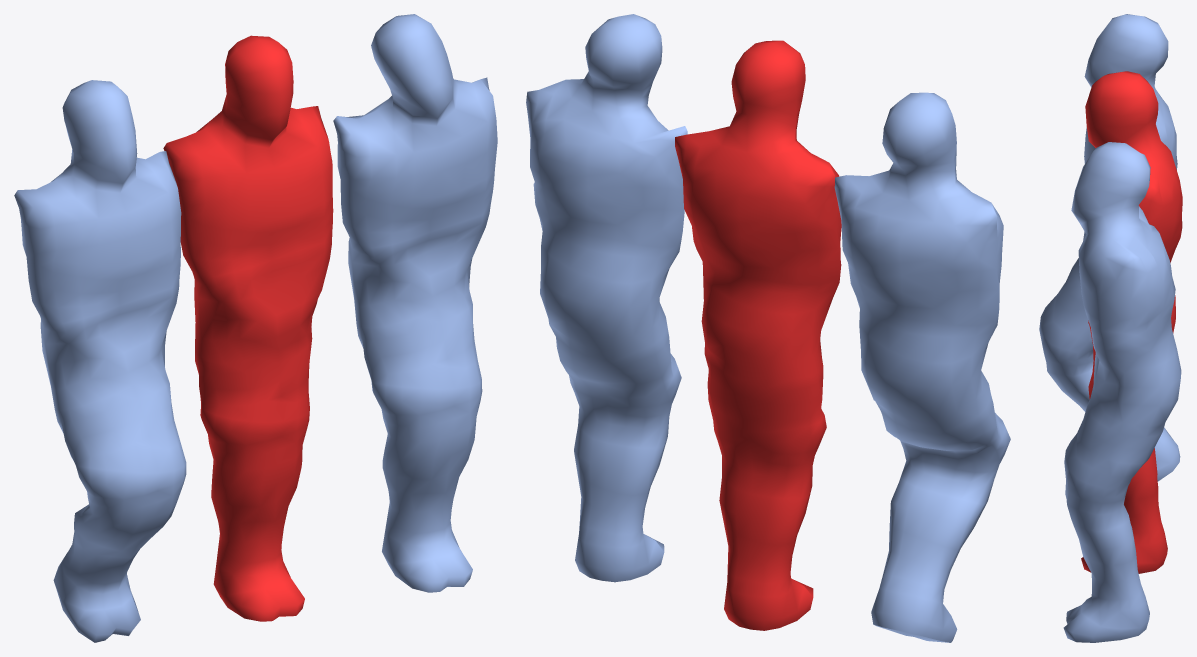
File: bodybags_x3_01.fbx
The picture shows the model from 3 angles, left to right: view 1: azimuth 30°, elevation 25°; view 2: azimuth 150°, elevation 25°; view 3: azimuth 270°, elevation 25°; orthographic projection. The views are drawn at different scales.
Parts seen in each view (by area): view 1: Box005; view 2: Box005; view 3: Box005.
Boxes of the visible parts, <box> form: Box005: <box>14,14,497,642</box>; Box005: <box>526,14,1010,642</box>; Box005: <box>1039,14,1182,642</box>.
Size of the model in its own units: 267 by 308 by 81.03.
